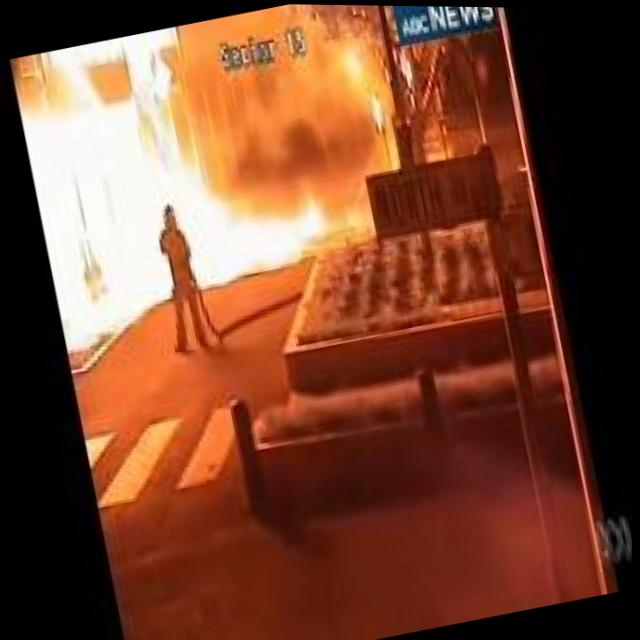fire: (7, 0, 371, 353)
